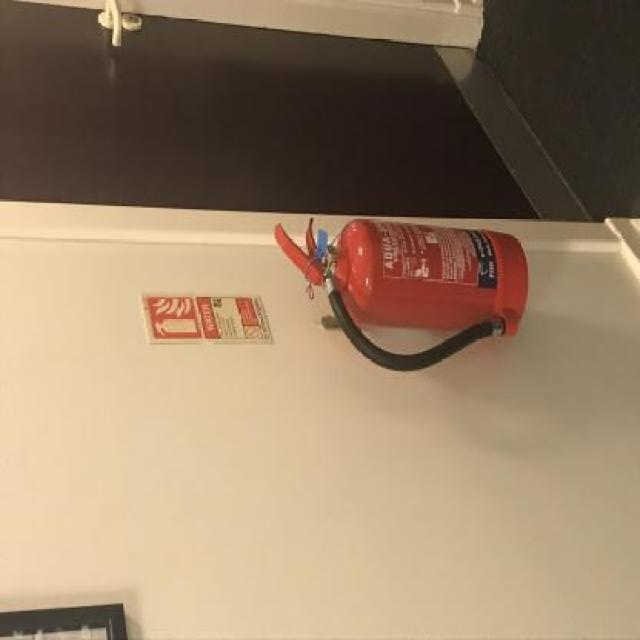fire extinguisher: (274, 217, 531, 371)
